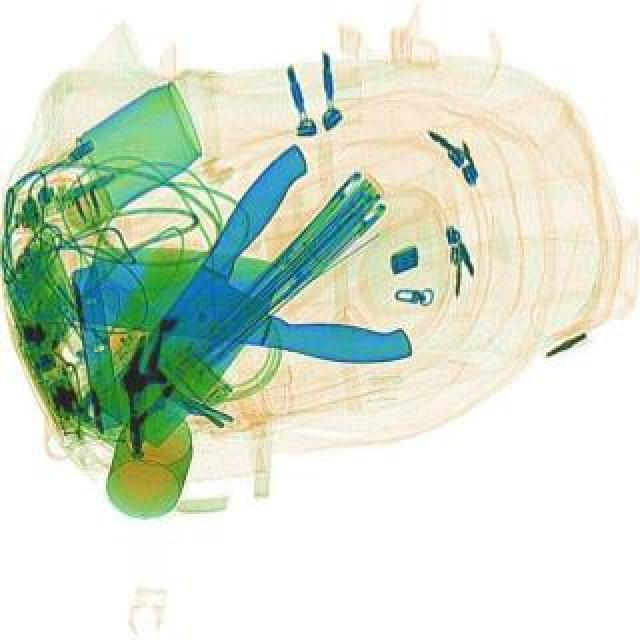knife: (84, 136, 366, 450), (78, 234, 422, 368)
